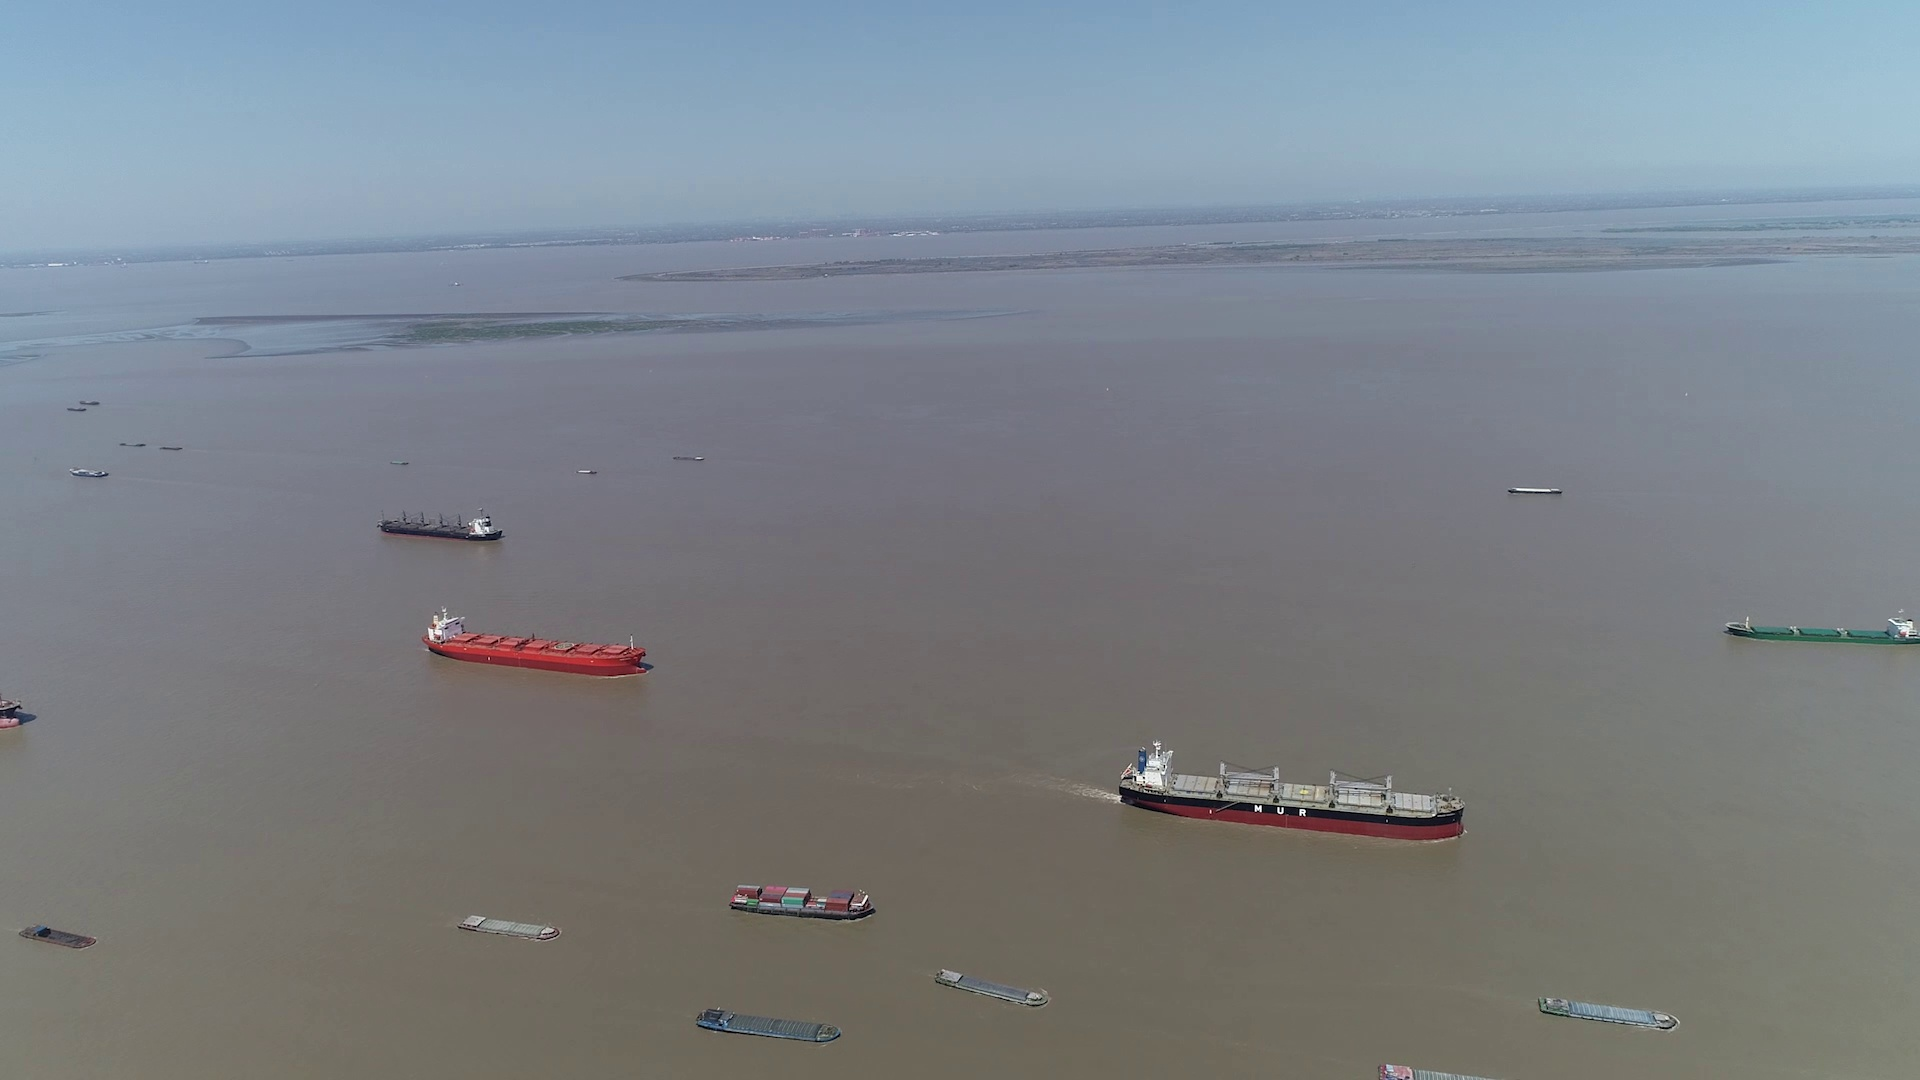ship: (1117, 742, 1464, 840), (422, 607, 647, 674), (1724, 611, 1919, 645), (729, 882, 878, 920), (698, 1010, 843, 1046), (1538, 996, 1677, 1033), (934, 969, 1048, 1009), (377, 508, 502, 541), (458, 913, 558, 939), (1377, 1062, 1491, 1080), (18, 924, 94, 949), (1, 684, 34, 735), (69, 467, 111, 479), (1509, 487, 1563, 496), (671, 454, 703, 462)
